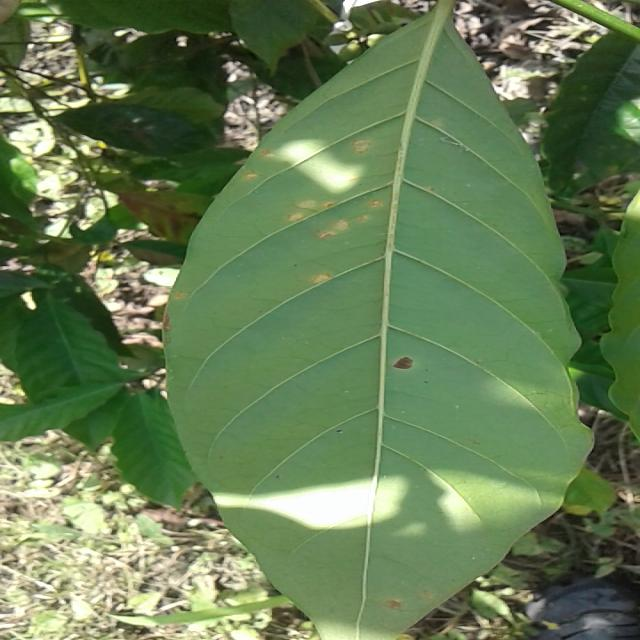Enfermedad-Roya: (164, 0, 594, 640)
